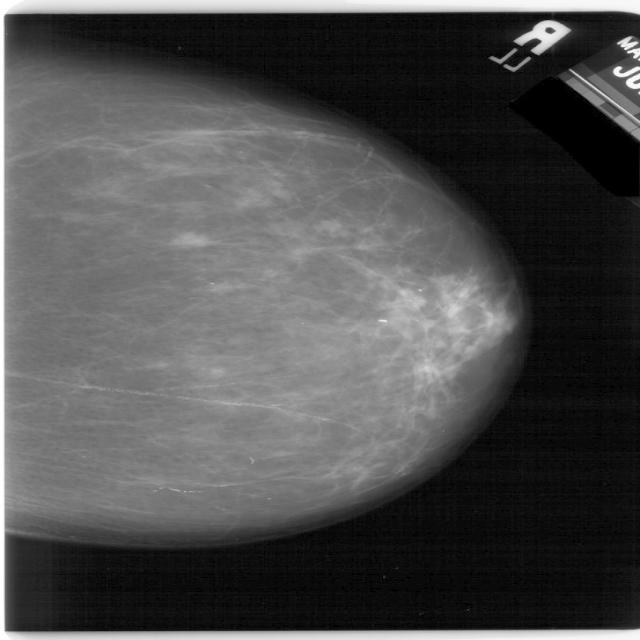tumour: (168, 231, 212, 249)
